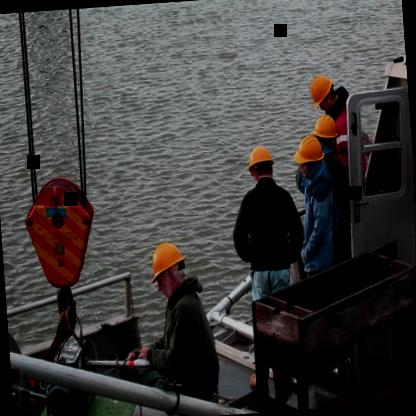helmet: (150, 239, 188, 302), (292, 134, 324, 178), (307, 70, 338, 113), (245, 144, 276, 185), (313, 113, 338, 152)
